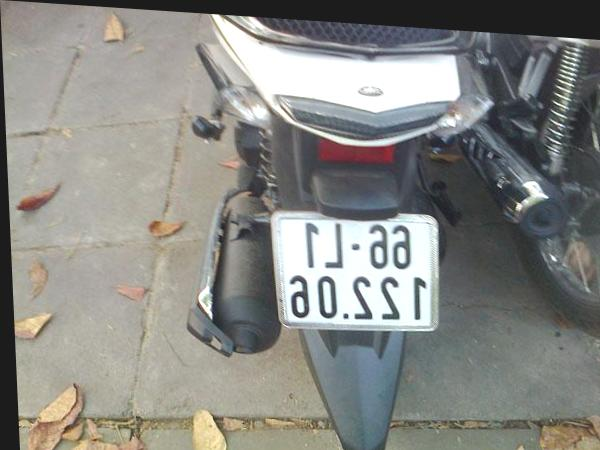License_Plate: (279, 207, 437, 333)
